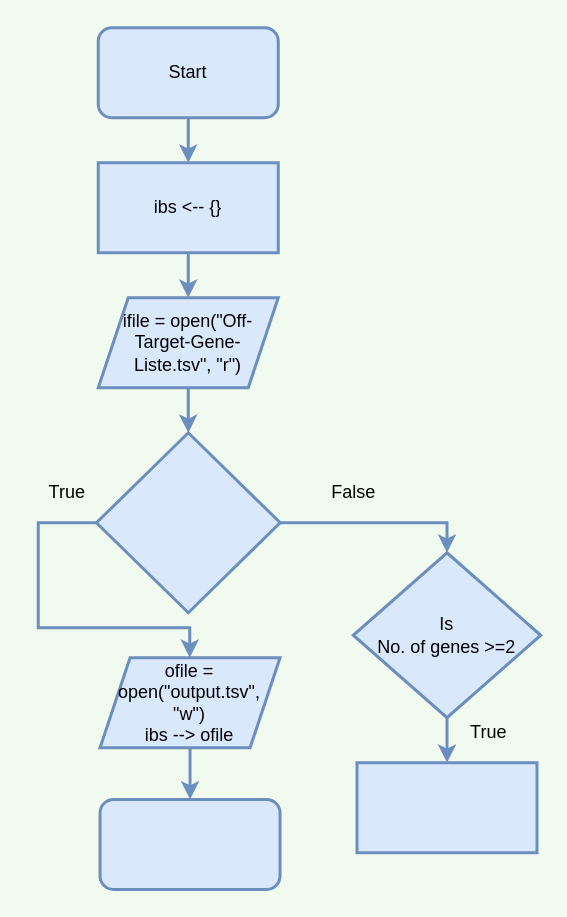
Image size: 567x917. Some labels were removed from this diagram. The centre of each missing label's shape, as x and y in pixels:
ibs <-- {iB : genes}: the point at 446,807
Is read complete?: the point at 187,522
Stop: the point at 189,843
